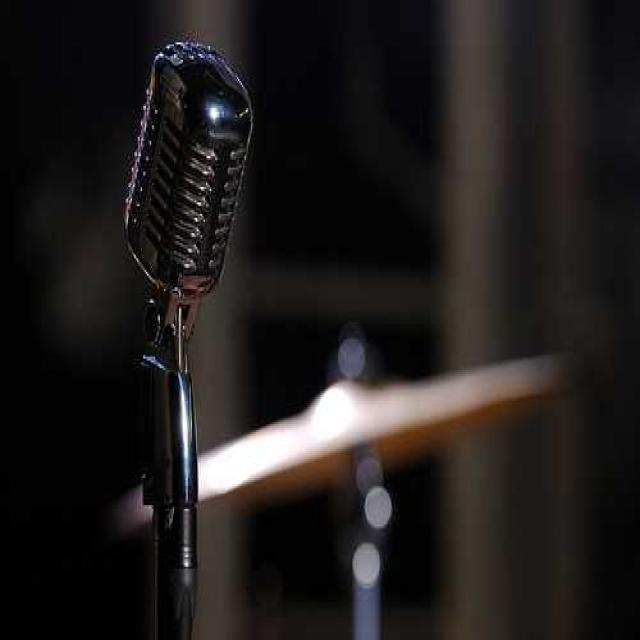microphone: (117, 33, 264, 361)
